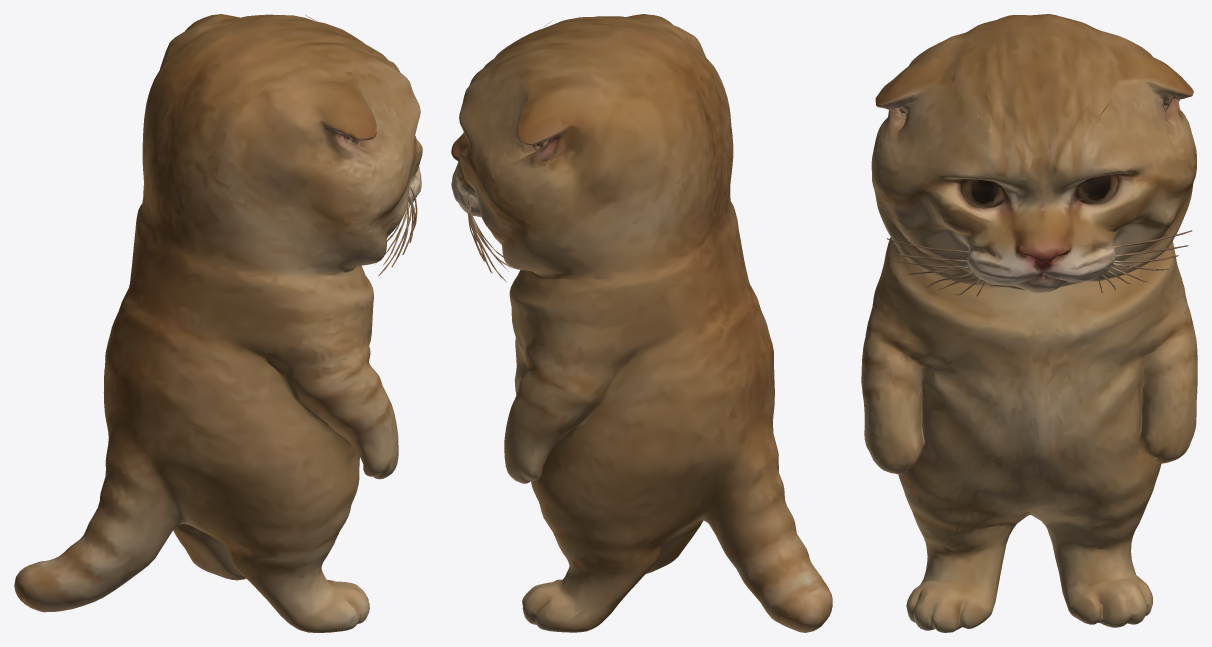
Rendered from maodie.glb.
3 renders of one model, left to right at view 1: azimuth 30°, elevation 25°; view 2: azimuth 150°, elevation 25°; view 3: azimuth 270°, elevation 25°, orthographic. The views are drawn at different scales.
Parts seen in each view (by area): view 1: maodie; view 2: maodie; view 3: maodie.
Boxes of the visible parts, x1,y1,x2,y2 form: maodie: (14,14,422,632); maodie: (451,14,832,632); maodie: (861,14,1197,632).
Bounding box in the file's own units: 1.32 × 1.85 × 0.9715.
